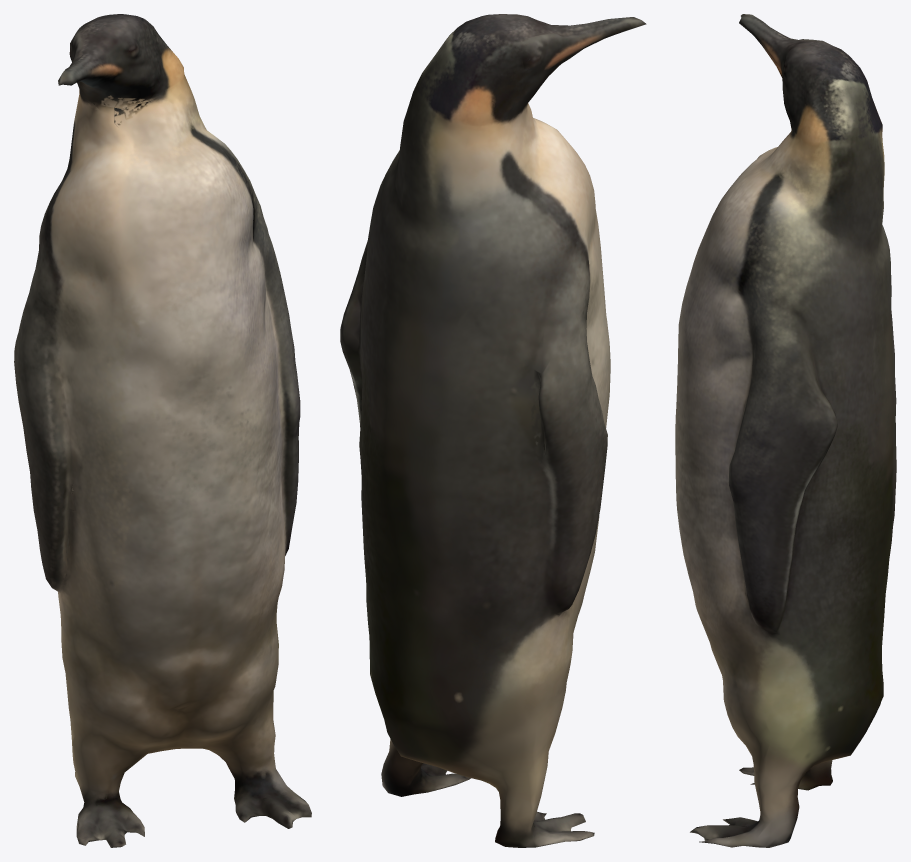
File: emperor_penguin.glb
3 views of the same model, side by side, from view 1: azimuth 30°, elevation 25°; view 2: azimuth 150°, elevation 25°; view 3: azimuth 270°, elevation 25° (orthographic). The views are drawn at different scales.
Visible parts, largest first — view 1: geo1; view 2: geo1; view 3: geo1.
Boxes of the visible parts, x1=… form: geo1: x1=14, y1=14, x2=311, y2=847; geo1: x1=340, y1=14, x2=646, y2=847; geo1: x1=675, y1=14, x2=896, y2=847.
Bounding box in the file's own units: 0.2919 × 0.8776 × 0.2379.
Materials: 1 (1 with a texture image).
